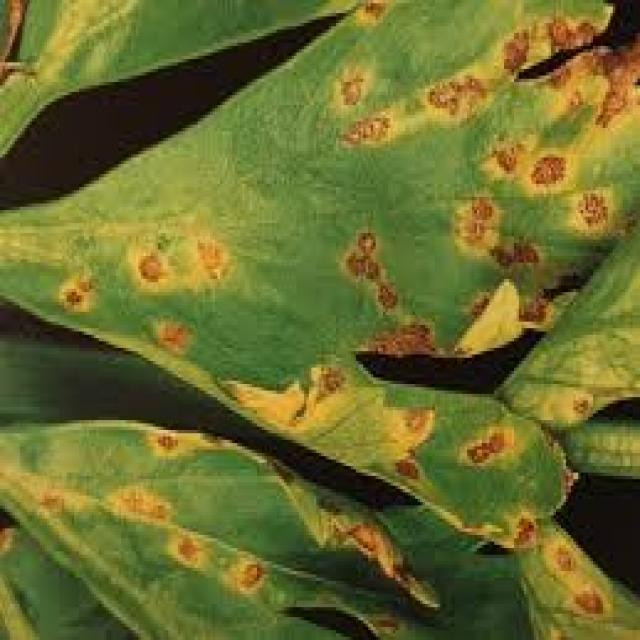bercak_daun: (316, 23, 636, 394)
